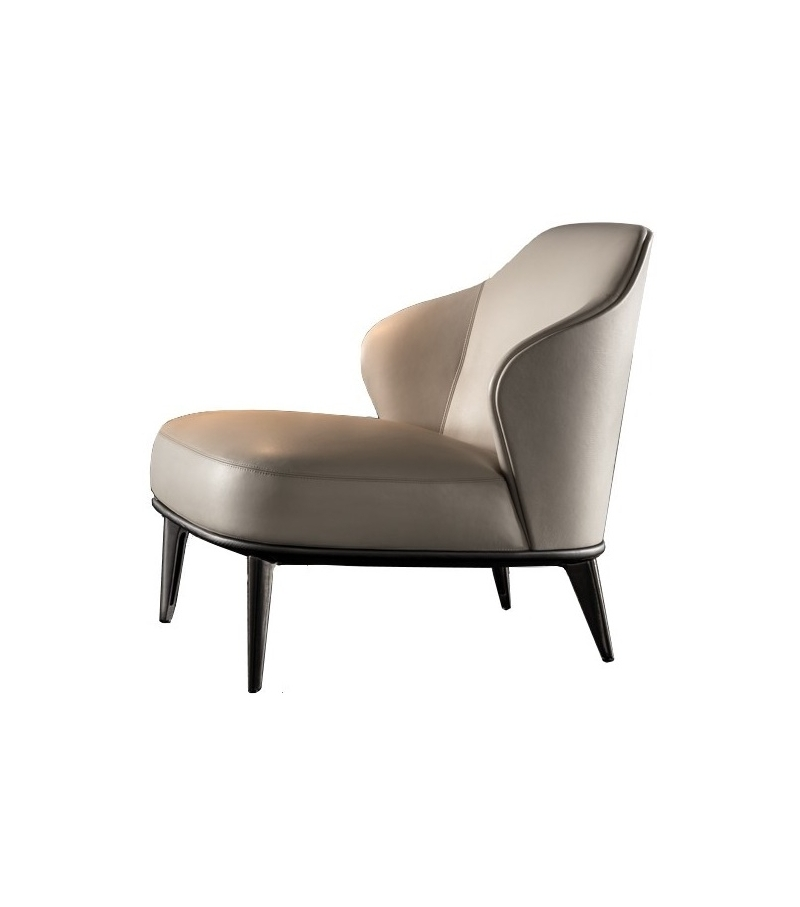chairs: (153, 215, 657, 701)
